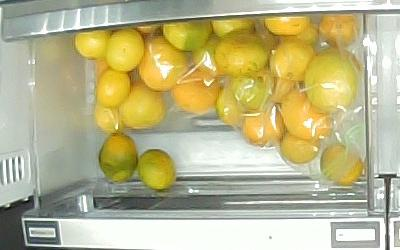tangerine: (117, 80, 166, 129), (98, 133, 137, 182), (106, 28, 145, 70), (138, 149, 176, 190), (162, 20, 211, 51), (96, 69, 131, 106), (75, 30, 109, 59), (94, 101, 121, 132)
tangerine_vinyl: (305, 52, 357, 110), (139, 36, 187, 90), (280, 91, 331, 139), (171, 66, 221, 114), (214, 31, 266, 75), (321, 145, 364, 187), (243, 105, 286, 146), (273, 39, 314, 81), (232, 73, 270, 111), (318, 13, 356, 47), (280, 134, 321, 164), (215, 88, 246, 127), (264, 15, 309, 35)
